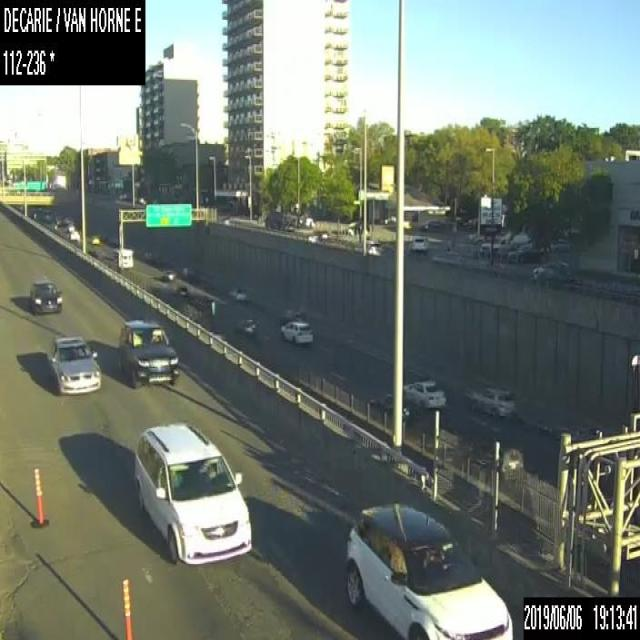construction: (30, 467, 50, 532), (121, 576, 133, 639)
vehicle: (347, 501, 513, 639), (132, 422, 252, 562), (118, 316, 179, 389), (48, 333, 101, 395), (470, 384, 516, 417), (27, 276, 63, 313), (403, 379, 446, 409), (531, 258, 568, 282), (280, 320, 314, 344), (507, 242, 542, 262), (106, 246, 132, 268), (478, 236, 508, 254), (234, 316, 256, 337), (354, 237, 379, 254), (264, 210, 284, 230), (411, 233, 429, 251), (226, 285, 246, 301), (550, 237, 572, 251), (282, 308, 306, 320), (305, 230, 327, 242), (173, 284, 188, 299), (163, 268, 176, 281), (69, 230, 79, 239), (90, 234, 99, 243)
